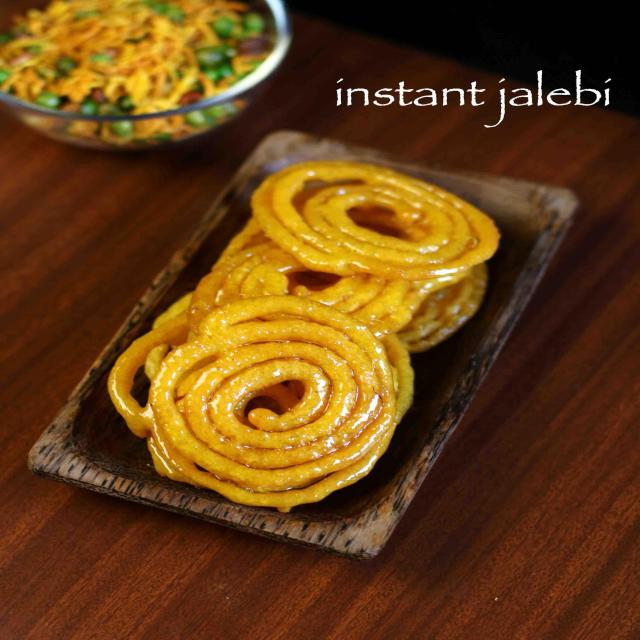jalebi: (173, 146, 457, 504)
